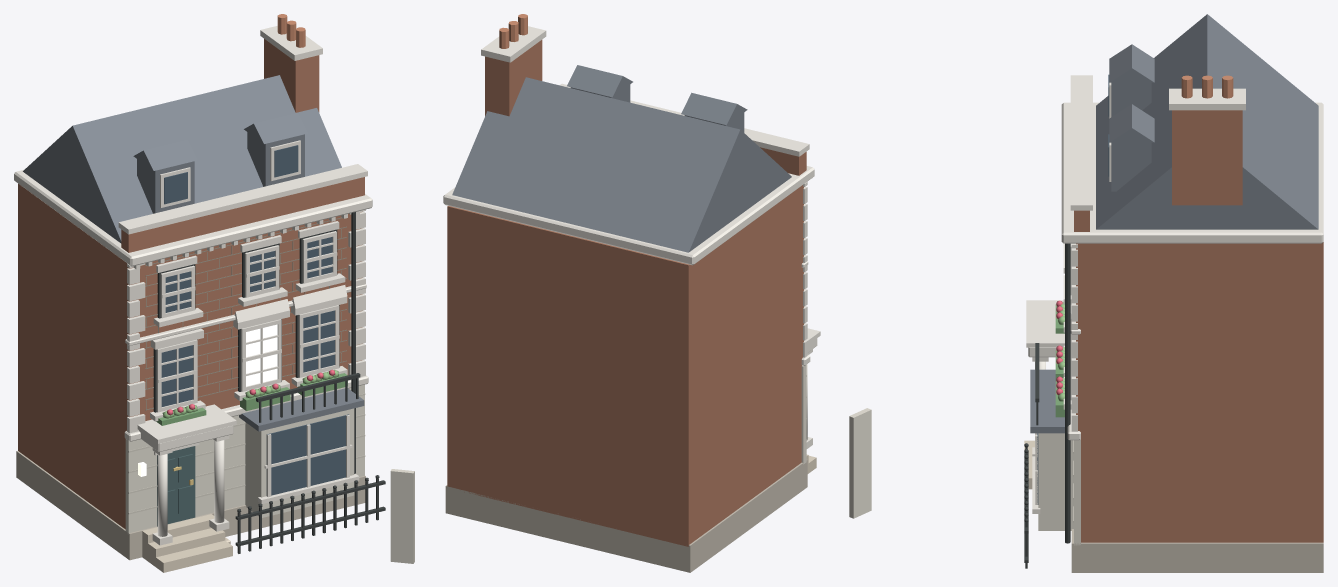
Rendered from terrace-b-3.glb.
3 views of the same model, side by side, from view 1: azimuth 30°, elevation 25°; view 2: azimuth 150°, elevation 25°; view 3: azimuth 270°, elevation 25° (orthographic). The views are drawn at different scales.
Parts seen in each view (by area): view 1: terrace-b-3; view 2: terrace-b-3; view 3: terrace-b-3.
Part boxes in pixels (<box>): terrace-b-3: <box>14,14,414,572</box>; terrace-b-3: <box>443,14,820,572</box>; terrace-b-3: <box>849,14,1323,572</box>.
Size of the model in its own units: 3.08 by 5.32 by 4.69.
